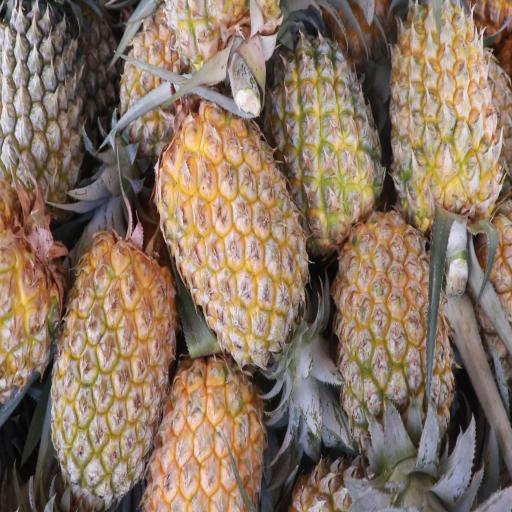------------------------------: (260, 5, 389, 255)
Pineapple - v8 v1: (147, 84, 308, 383), (46, 212, 178, 512), (327, 205, 452, 509), (384, 2, 511, 256), (139, 354, 268, 512)
